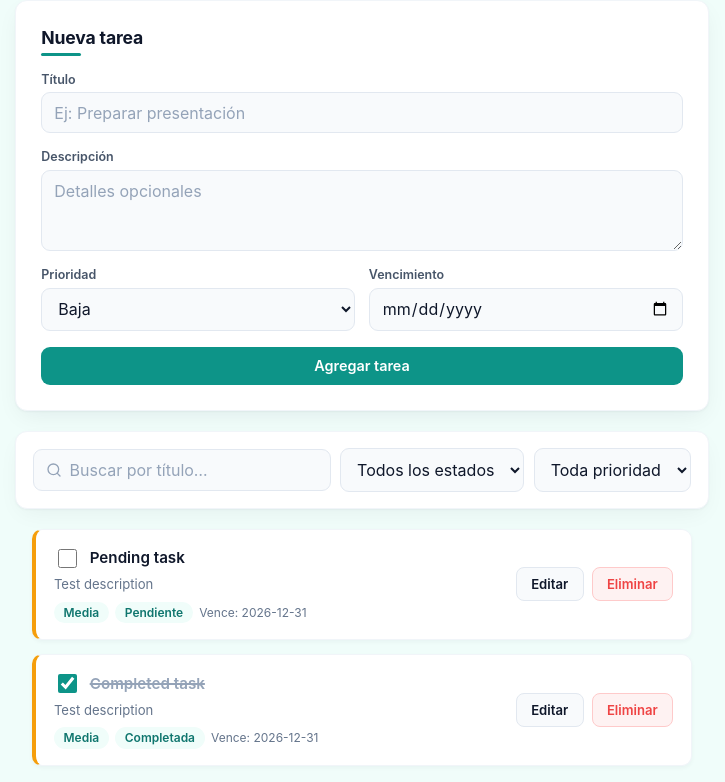
FilteredTaskList › filters tasks by status
Select "Completada" in the 1st dropdown showing "Todos los estados": (432, 470) x1=340 y1=448 x2=524 y2=492
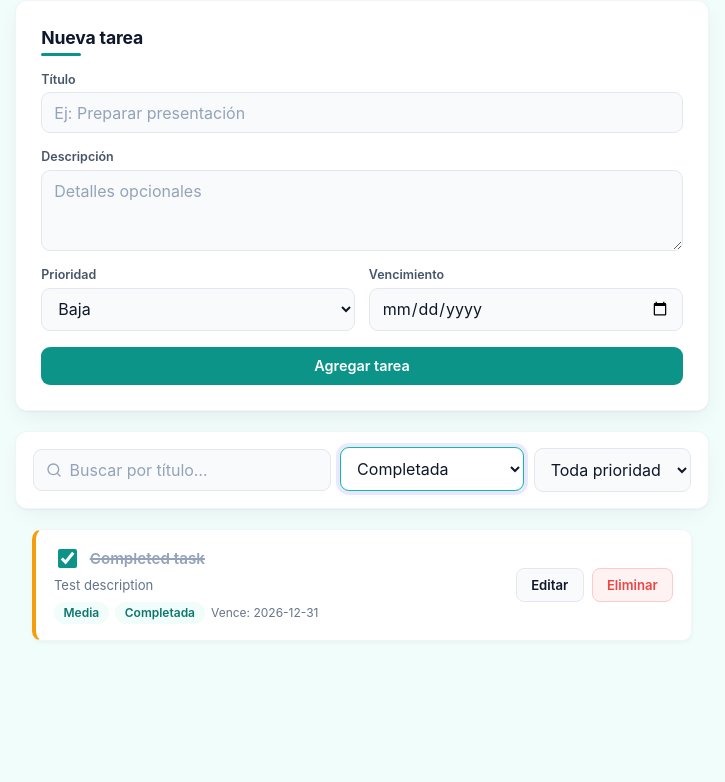
Check: the text "Completed task" is shown, box x1=90 y1=548 x2=205 y2=569
Check: the text "Pending task" is gone
